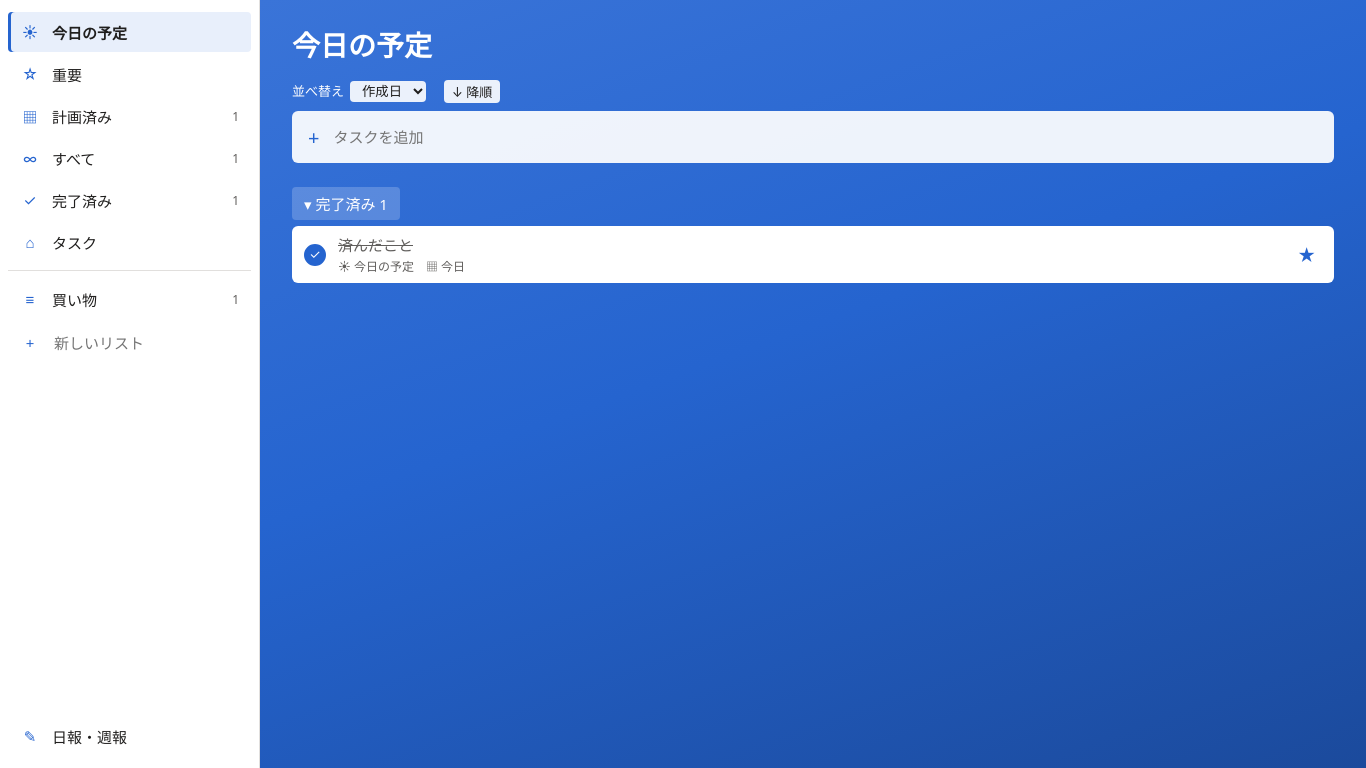
App › 正常系: リストを選ぶと, そのリストのタスクと期限切れの表示が出る
Click the button "≡ 買い物 1" at (130, 299), box 8,279 -> 251,319
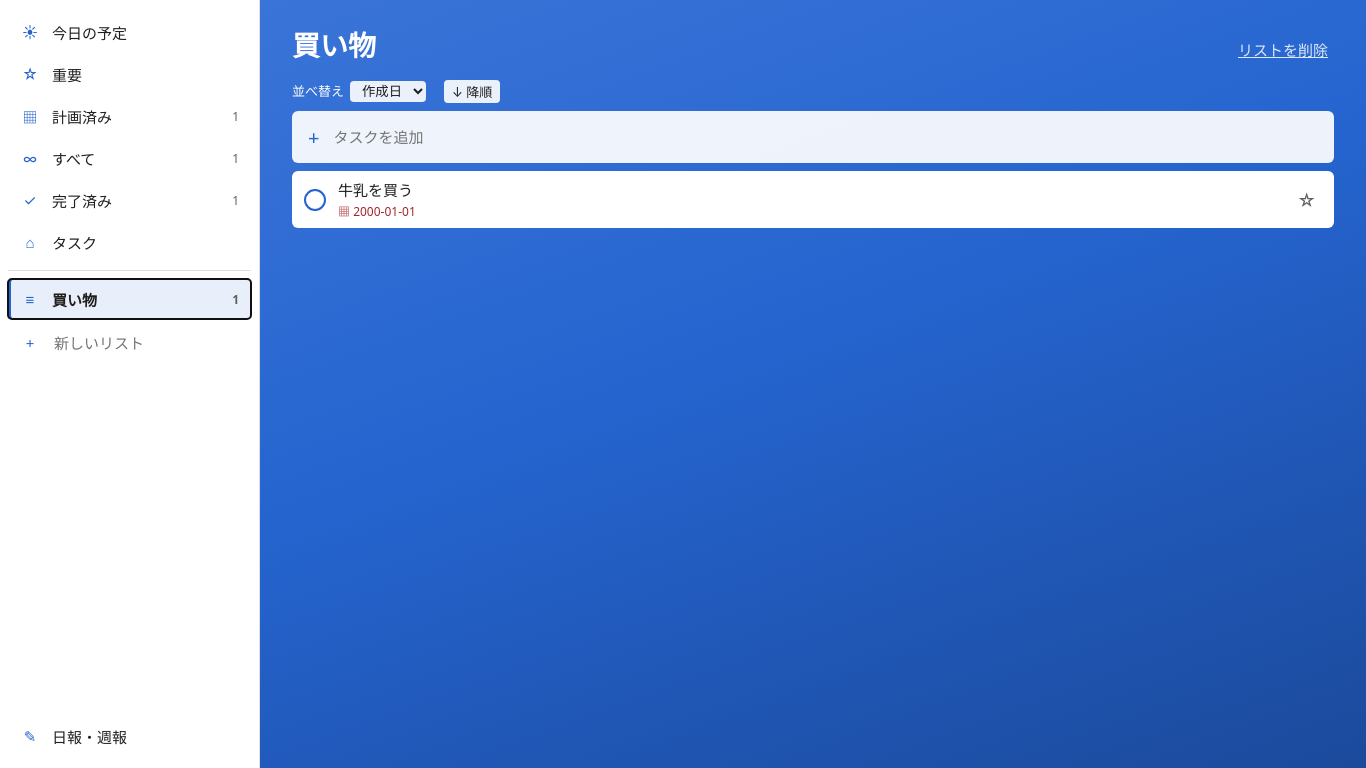
expect the text "牛乳を買う" is shown: met, box 338,179 -> 413,200
